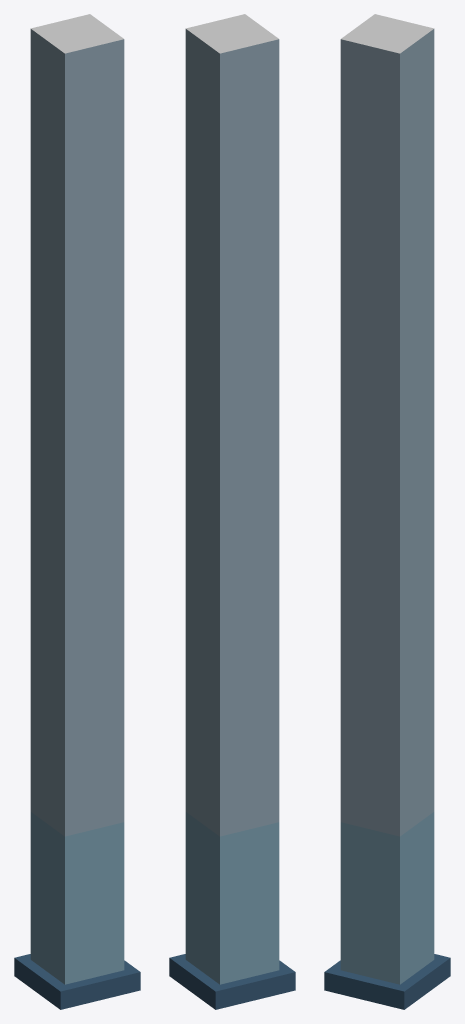
Rendered from beam.fbx.
3 views of the same model, side by side, from view 1: azimuth 30°, elevation 25°; view 2: azimuth 210°, elevation 25°; view 3: azimuth 330°, elevation 25° (orthographic).
Parts seen in each view (by area): view 1: beam; view 2: beam; view 3: beam.
Boxes of the visible parts, x1,y1,x2,y2 form: beam: [14, 14, 140, 1009]; beam: [169, 14, 295, 1009]; beam: [324, 14, 450, 1009].
Size of the model in its own units: 269 by 3050 by 269.
